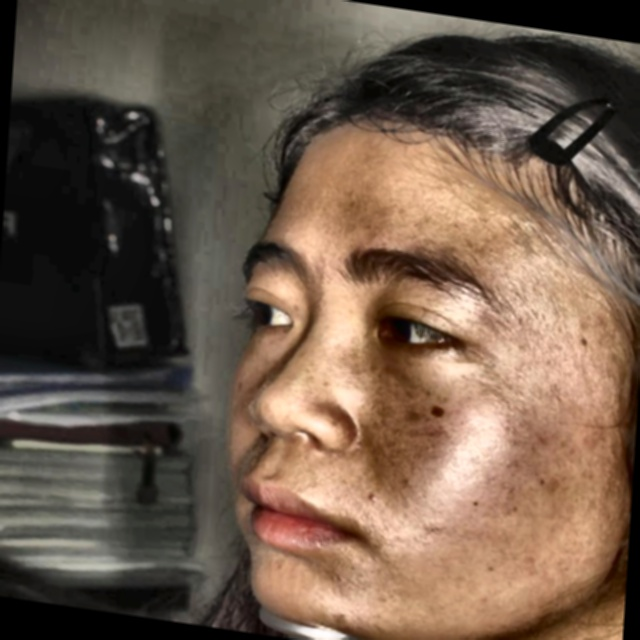comedone: (326, 609, 344, 626)
